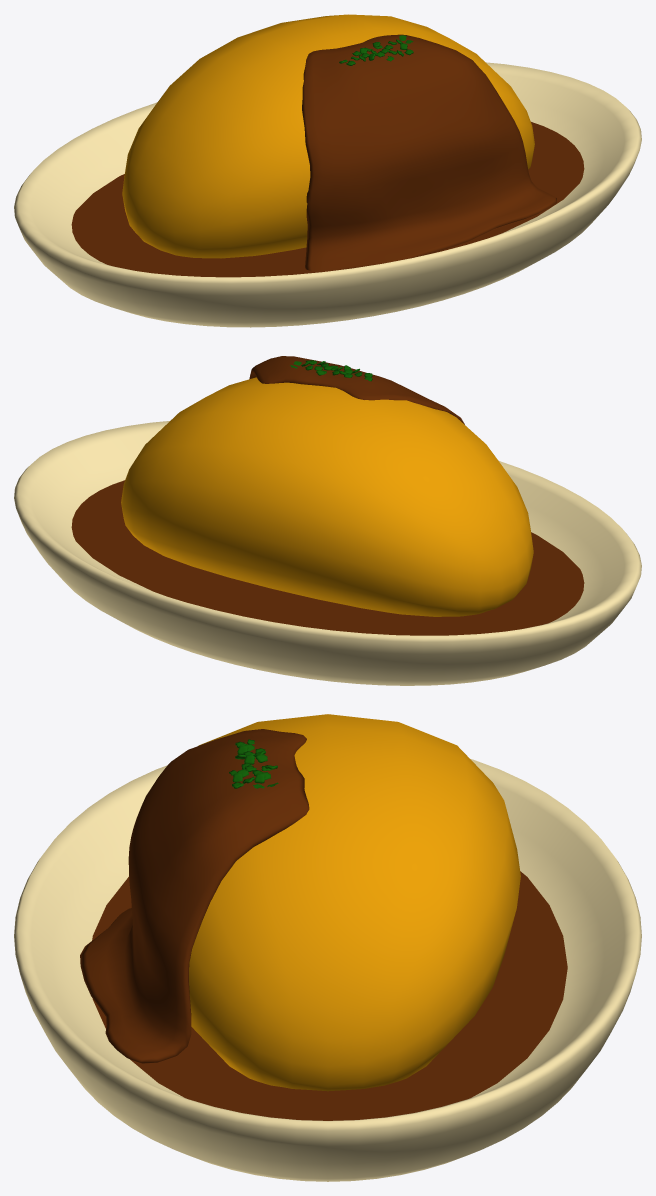
File: demiomu.fbx
The picture shows the model from 3 angles, top to bottom: view 1: azimuth 30°, elevation 25°; view 2: azimuth 150°, elevation 25°; view 3: azimuth 270°, elevation 25°; orthographic projection. The views are drawn at different scales.
Visible parts, largest first — view 1: demiomu; view 2: demiomu; view 3: demiomu.
Part boxes in pixels (x1,y1,x2,y2): demiomu: (14,14,641,327); demiomu: (14,356,641,685); demiomu: (14,714,641,1181).
Size of the model in its own units: 40.85 by 14.26 by 27.8.
